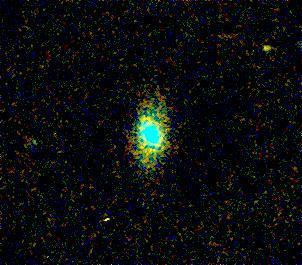star: (251, 33, 281, 63)
